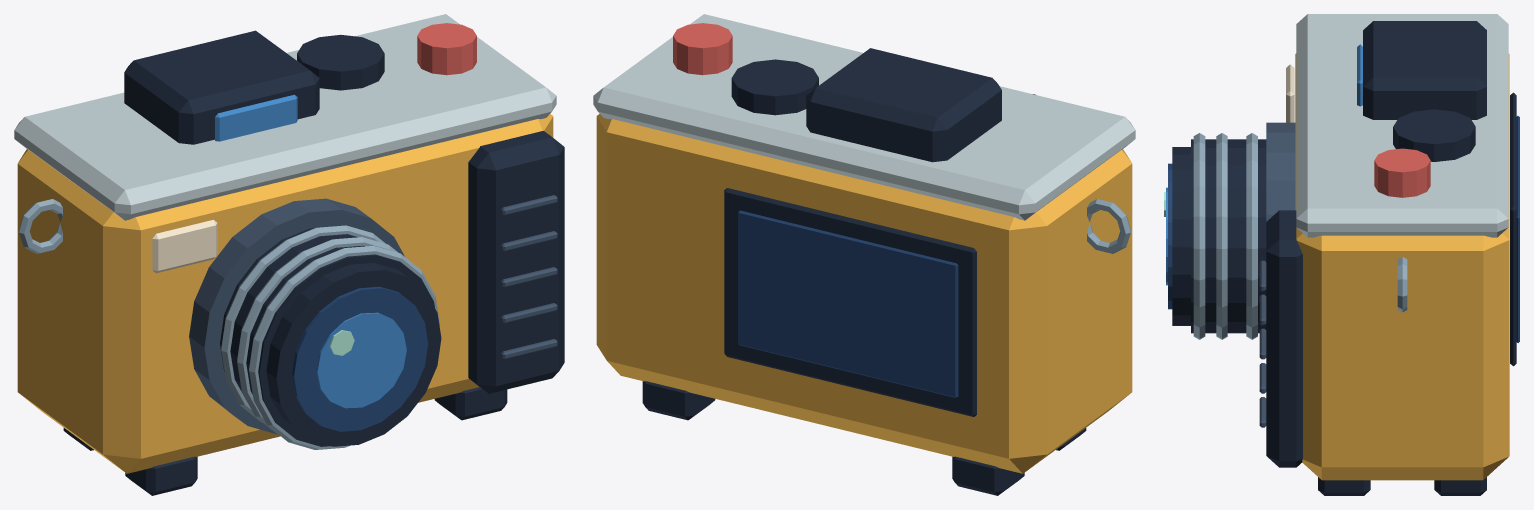
Rendered from Camera.glb.
3 views of the same model, side by side, from view 1: azimuth 30°, elevation 25°; view 2: azimuth 150°, elevation 25°; view 3: azimuth 270°, elevation 25° (orthographic). The views are drawn at different scales.
Parts seen in each view (by area): view 1: Camera; view 2: Camera; view 3: Camera.
Part boxes in pixels (box(x1,y1,x2,y2)): Camera: box(14, 14, 564, 495); Camera: box(593, 14, 1135, 495); Camera: box(1164, 14, 1519, 495).
Size of the model in its own units: 3.1 by 2.01 by 1.89.
1 material, 1 textured.
